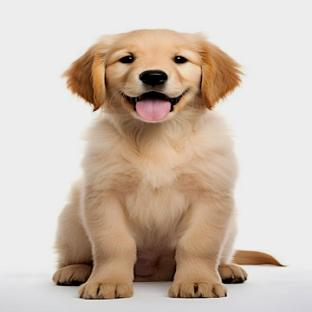Animal: (54, 29, 281, 299)
